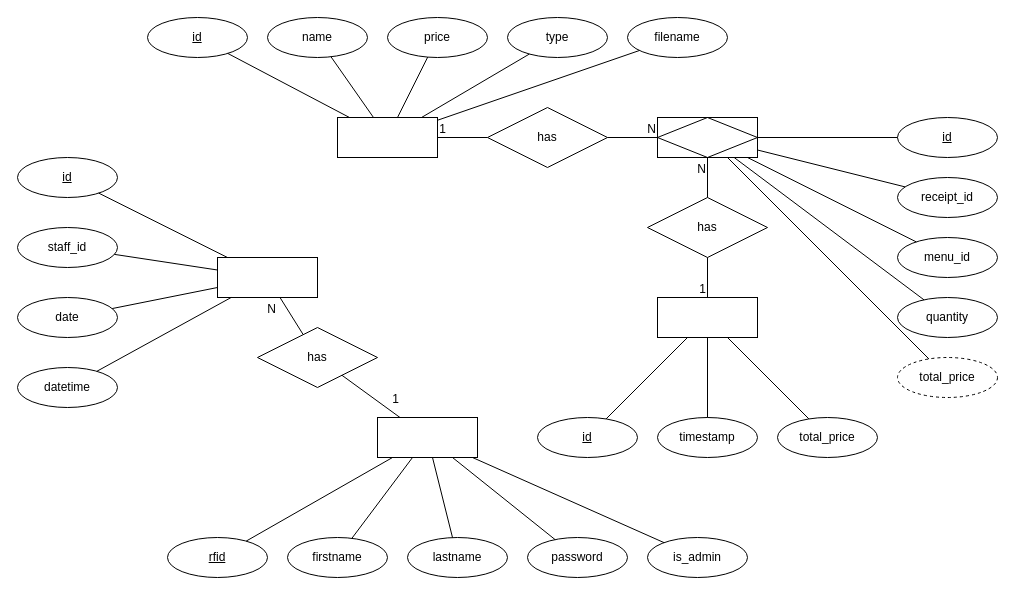
Some shapes in this 1015 by 595 pixel diagram are drawn without their labels. The shapes that lost their labels are listed below. From the top down, each one's box as (x1, y1, x2, y2) in pixels, then its label:
(336, 116, 438, 158): Menu
(656, 116, 758, 158): ReceiptMenu
(216, 256, 318, 298): Check
(656, 296, 758, 338): Receipt
(376, 416, 478, 458): Staff
